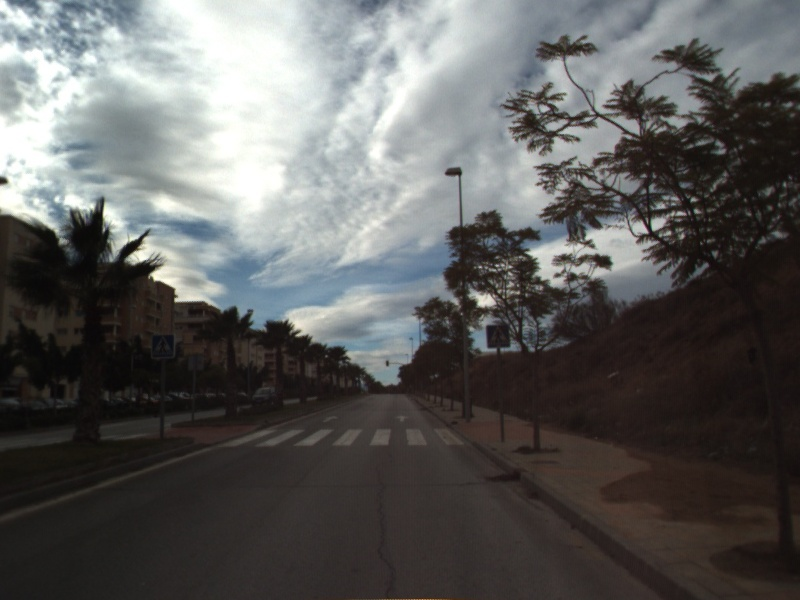STRAIGHT: (321, 413, 341, 424), (393, 413, 411, 424)
